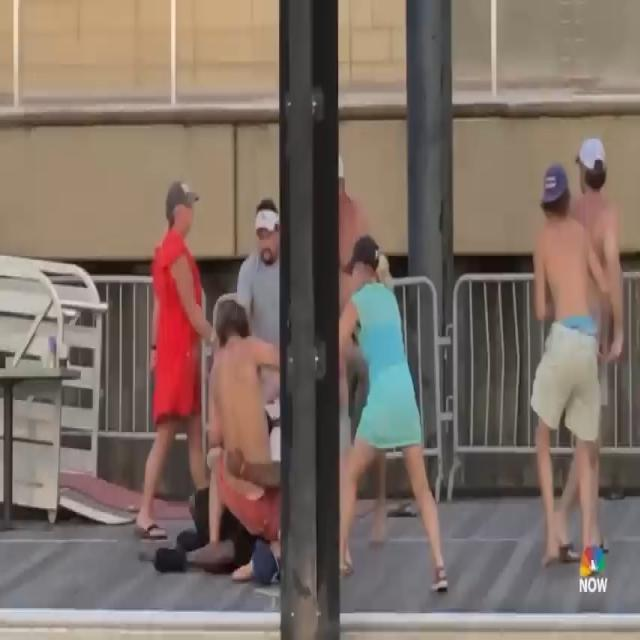fight: (114, 125, 456, 604)
non-fight: (522, 125, 632, 568), (133, 154, 214, 577)
